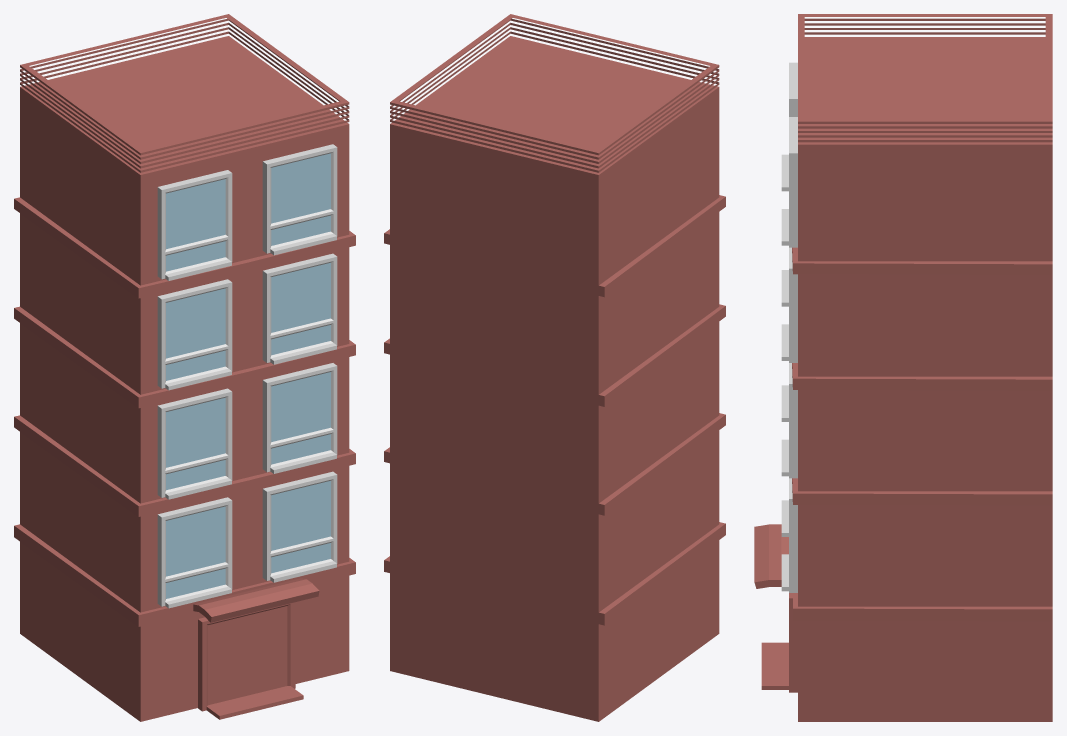
The model's file is Apt1.seperated.fbx.
3 renders of one model, left to right at view 1: azimuth 30°, elevation 25°; view 2: azimuth 150°, elevation 25°; view 3: azimuth 270°, elevation 25°, orthographic. The views are drawn at different scales.
Visible parts, largest first — view 1: building.base, window.glass, window.frame, building.seperators, roof.bars, door.inner, tente, door.frame, door.step; view 2: building.base, building.seperators, roof.bars; view 3: building.base, building.seperators, roof.bars, window.frame, tente, door.step, door.frame.
Part boxes in pixels (x1,y1,x2,y2): building.base: [20, 36, 349, 721]; window.glass: [166, 153, 330, 598]; window.frame: [157, 144, 337, 608]; building.seperators: [14, 197, 355, 626]; roof.bars: [20, 14, 349, 172]; door.inner: [208, 606, 287, 705]; tente: [193, 578, 319, 622]; door.frame: [198, 602, 295, 711]; door.step: [206, 686, 303, 719]; building.base: [390, 36, 719, 721]; building.seperators: [384, 195, 725, 625]; roof.bars: [390, 14, 719, 172]; building.base: [798, 37, 1052, 721]; building.seperators: [792, 247, 1052, 621]; roof.bars: [798, 14, 1052, 142]; window.frame: [781, 62, 797, 592]; tente: [754, 524, 788, 588]; door.step: [761, 642, 788, 689]; door.frame: [789, 593, 797, 692].
Size of the model in its own units: 974 by 2404 by 1081.
